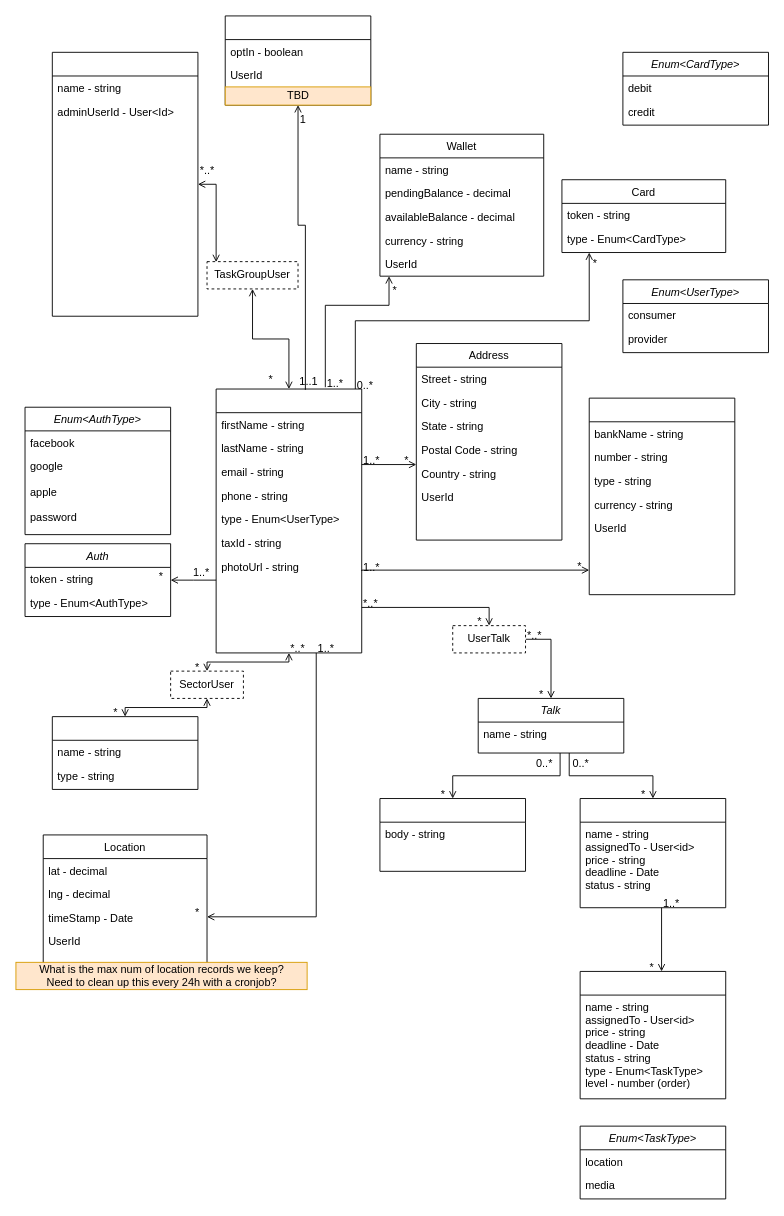
The diagram is 784 pixels wide and 1216 high, and some of its shapes have lost their labels. The box of each missing label's shape, as (x1, y1, x2, y2) in pixels:
Account: (588, 397, 735, 595)
Assignment: (579, 798, 726, 908)
Message: (379, 798, 526, 871)
NotificationSettings: (224, 15, 371, 105)
Sector: (51, 716, 198, 789)
Task: (579, 971, 726, 1099)
TaskGroup: (51, 51, 198, 316)
User: (215, 388, 362, 653)
